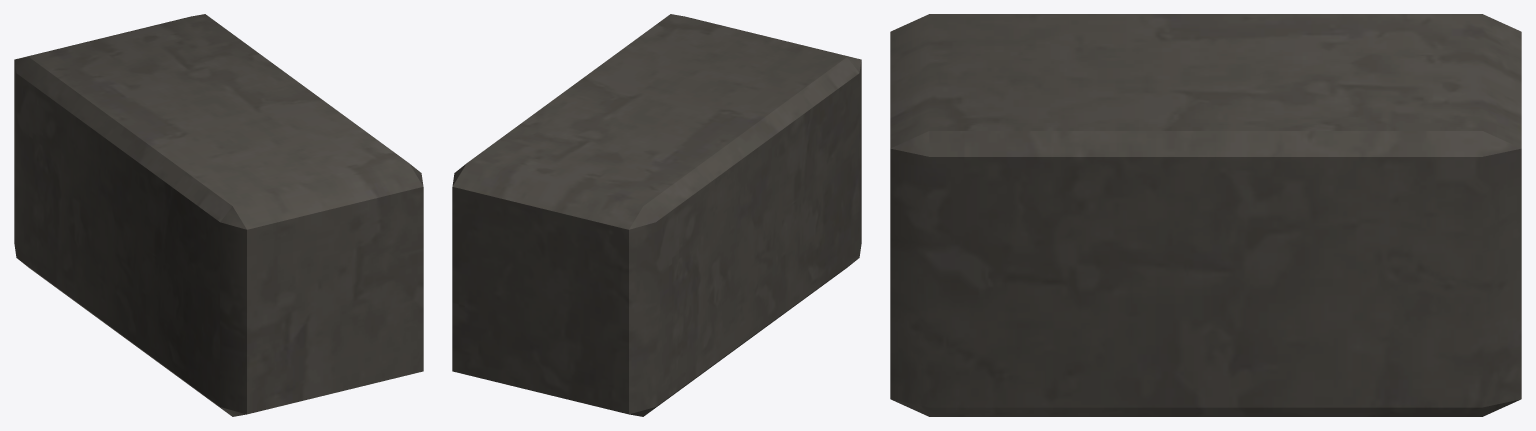
File: Part - Simlpe form 02-CbENAJ-F.glb
3 renders of one model, left to right at view 1: azimuth 30°, elevation 25°; view 2: azimuth 150°, elevation 25°; view 3: azimuth 270°, elevation 25°, orthographic. The views are drawn at different scales.
Parts seen in each view (by area): view 1: Simlpe_form_02; view 2: Simlpe_form_02; view 3: Simlpe_form_02.
Boxes of the visible parts, x1=… form: Simlpe_form_02: x1=14, y1=14, x2=423, y2=416; Simlpe_form_02: x1=452, y1=14, x2=861, y2=416; Simlpe_form_02: x1=890, y1=14, x2=1521, y2=416.
Size of the model in its own units: 1 by 1 by 2.
Materials: 1 (1 with a texture image).
